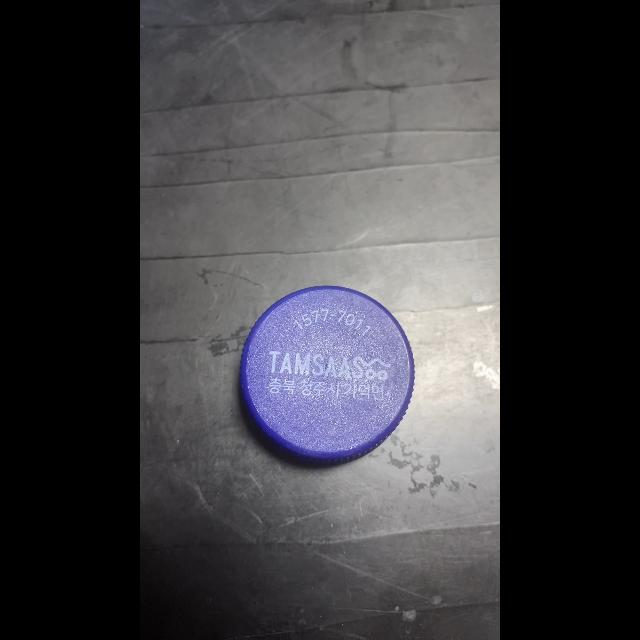plastic_bottle_cap: (239, 280, 417, 470)
